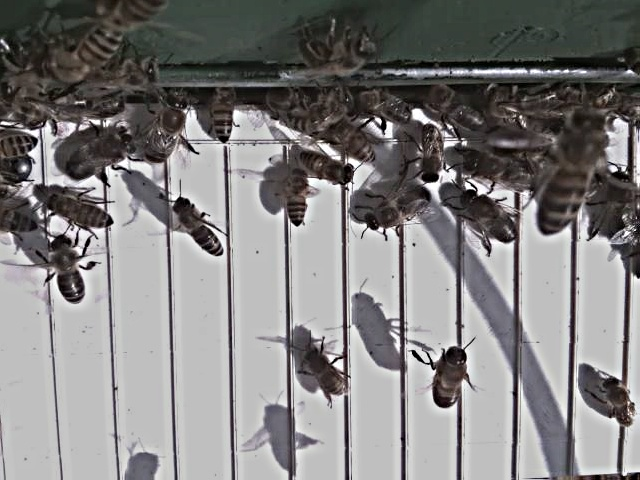Drone: (62, 129, 142, 185), (455, 187, 521, 248), (142, 91, 191, 169), (365, 184, 434, 235)
Worker: (174, 195, 228, 261), (48, 237, 90, 308), (49, 193, 118, 233), (298, 148, 358, 189), (303, 347, 349, 399), (434, 347, 471, 411), (600, 375, 640, 430), (415, 124, 448, 186), (284, 168, 313, 235), (212, 88, 237, 148)
